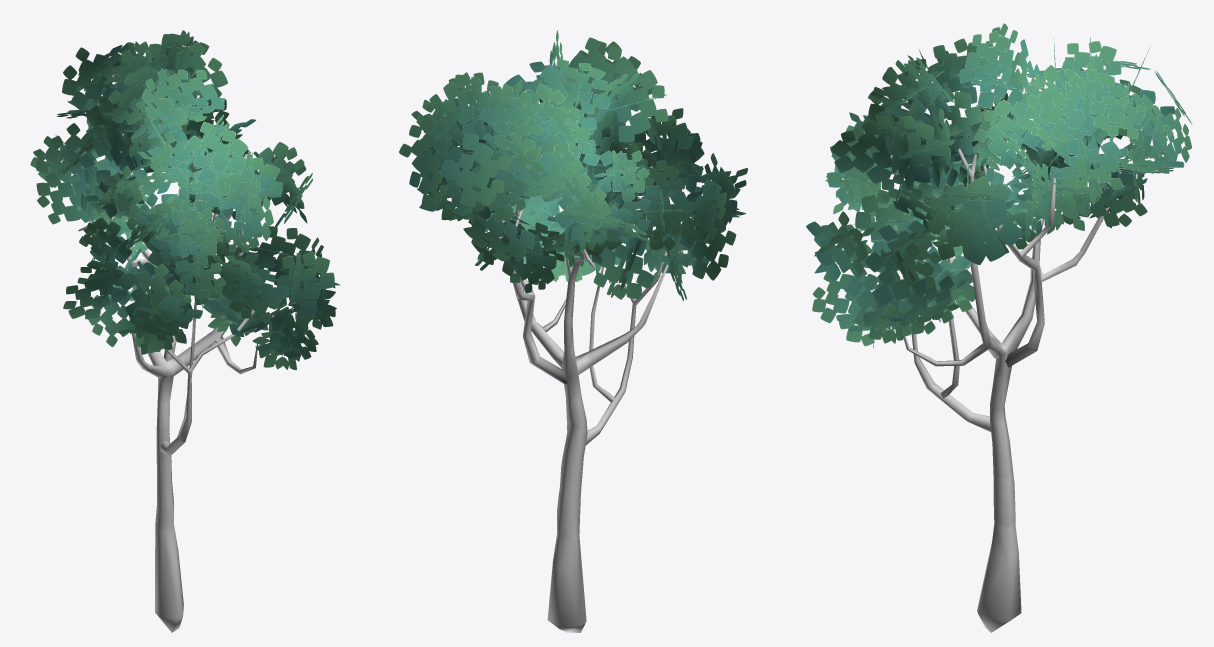
The model's file is model_tree_03a.fbx.
The picture shows the model from 3 angles, left to right: view 1: azimuth 30°, elevation 25°; view 2: azimuth 150°, elevation 25°; view 3: azimuth 270°, elevation 25°; orthographic projection. The views are drawn at different scales.
Parts seen in each view (by area): view 1: TSP_Tree_03A_Crown, TSP_Tree_03A; view 2: TSP_Tree_03A_Crown, TSP_Tree_03A; view 3: TSP_Tree_03A_Crown, TSP_Tree_03A.
Part boxes in pixels (x1,y1,x2,y2): TSP_Tree_03A_Crown: [30, 30, 340, 370]; TSP_Tree_03A: [78, 154, 257, 632]; TSP_Tree_03A_Crown: [399, 30, 747, 300]; TSP_Tree_03A: [499, 192, 673, 632]; TSP_Tree_03A_Crown: [806, 23, 1192, 348]; TSP_Tree_03A: [903, 148, 1111, 632].
Size of the model in its own units: 5.19 by 10.24 by 6.09.
